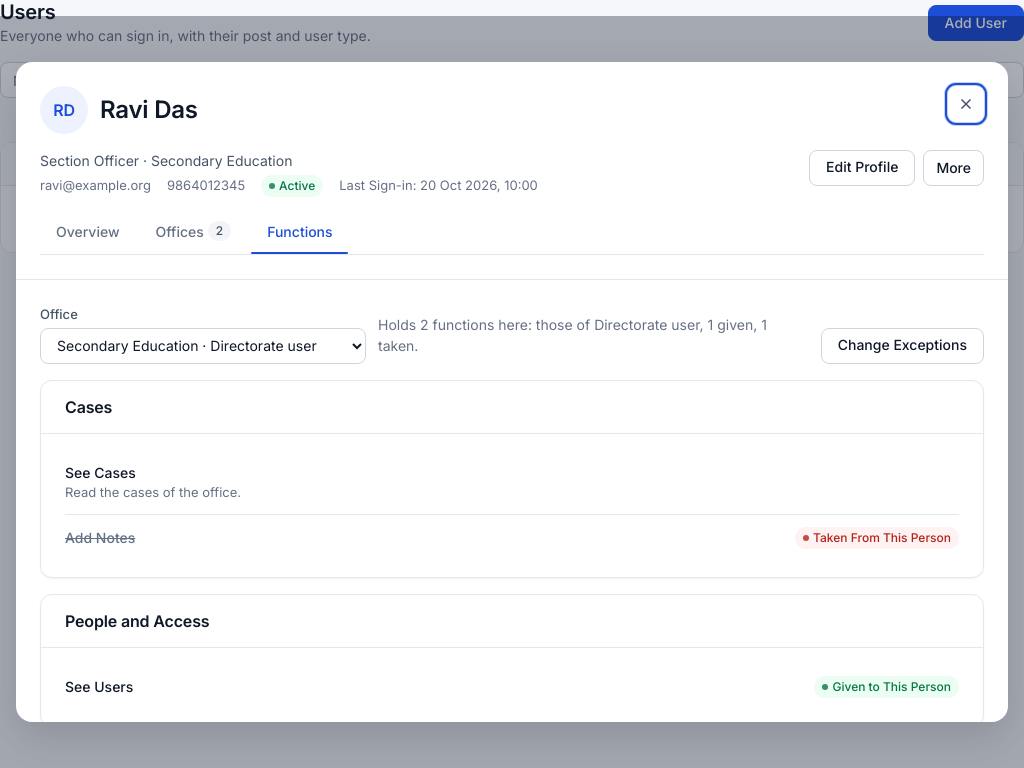
Test: the address (design portal-ui-polish-2, decision 31) › the tab lives in ?tab= without a new history entry
Step 1. Click the link "Offices 2" → (193, 236), box [154, 221, 231, 250]
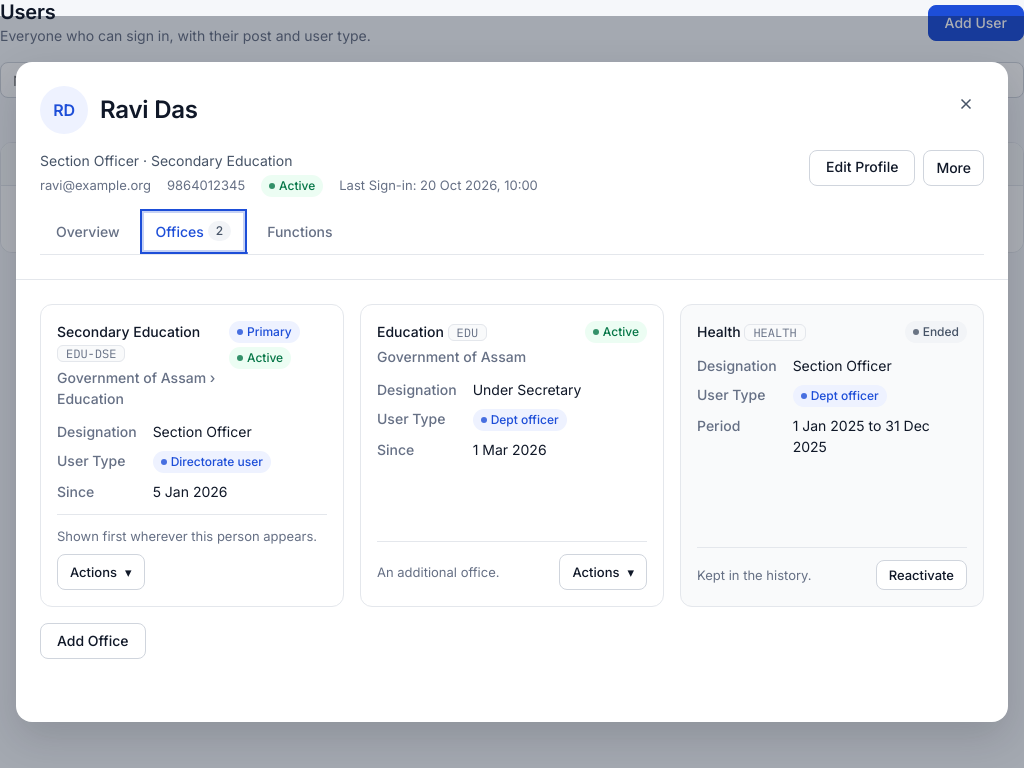
Check: the list named "Offices" is shown, box [40, 304, 984, 608]
